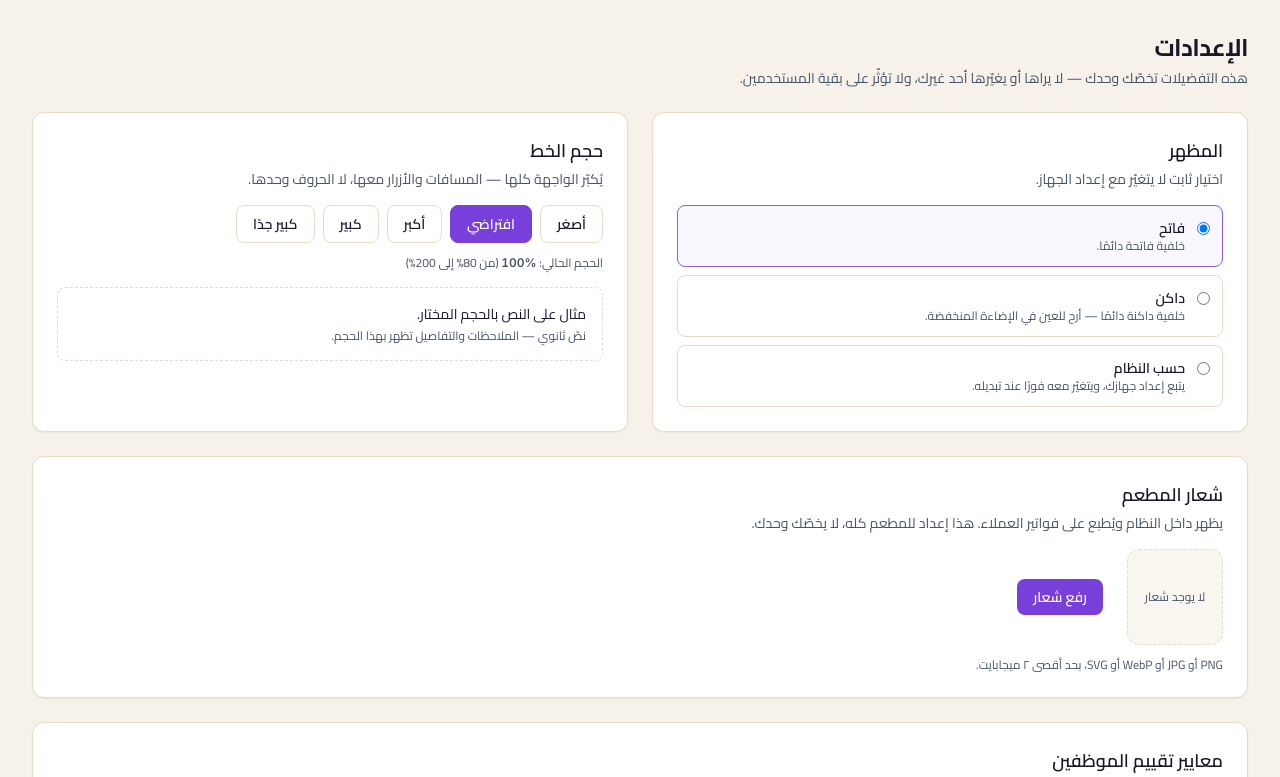
Test: picking a text size › re-selecting the size already in force withdraws the offer too
The width and height of the screenshot is (1280, 777).
Click the button "كبير".
click(350, 224)  # box [322,205,378,243]
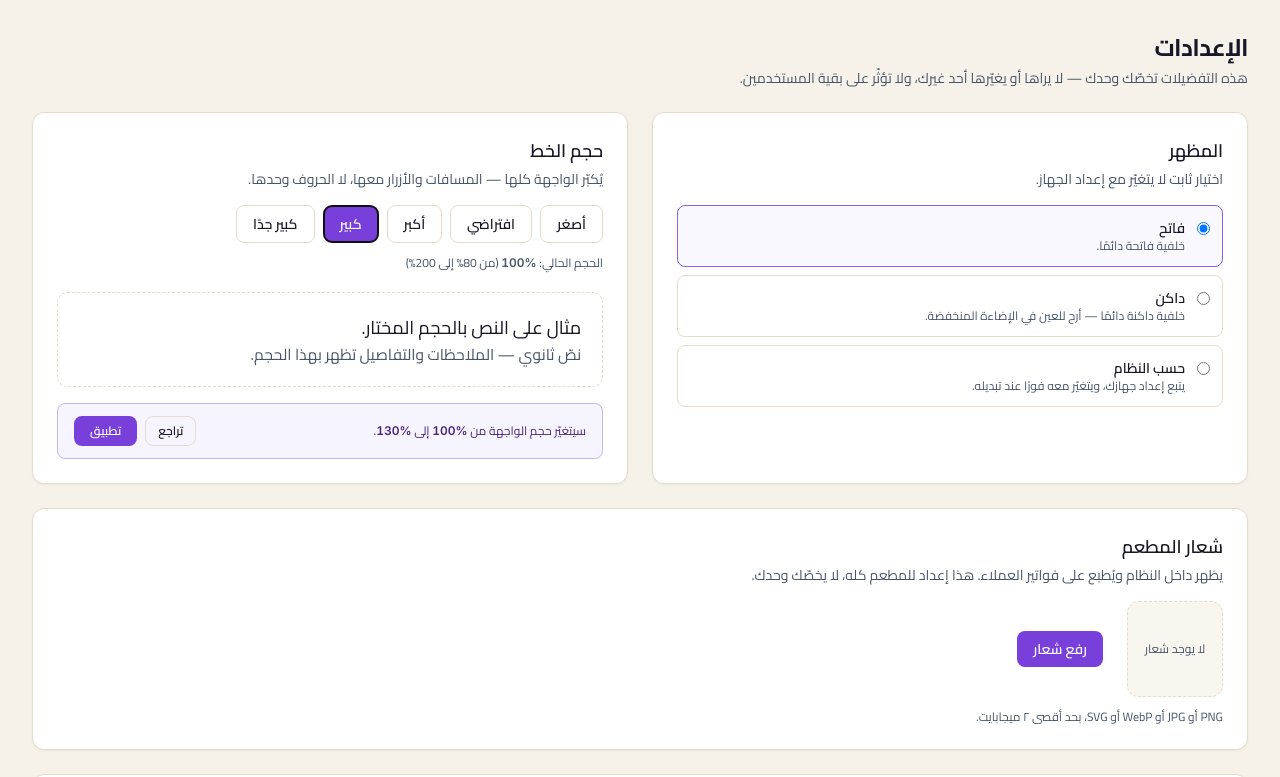
Click the button "افتراضي".
click(491, 224)  # box [450,205,532,243]
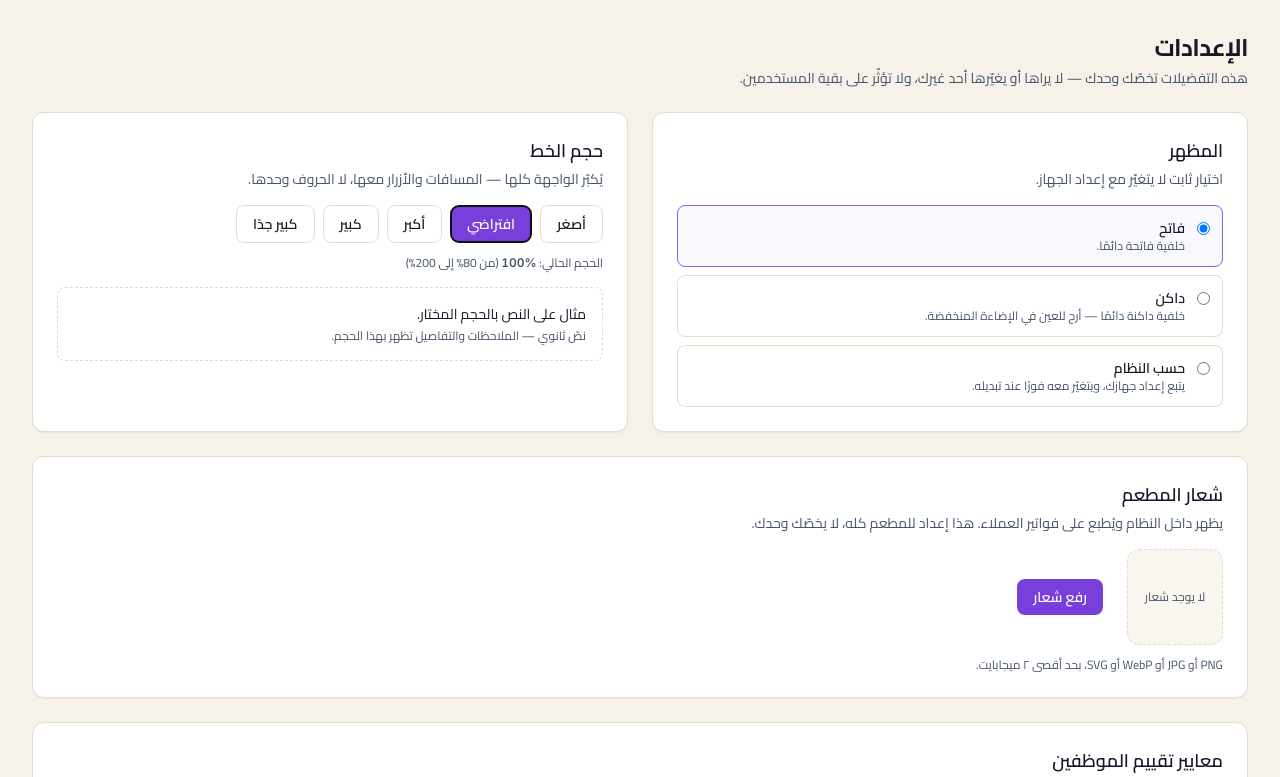
Expected: the element with test id "text-scale-apply" is gone
